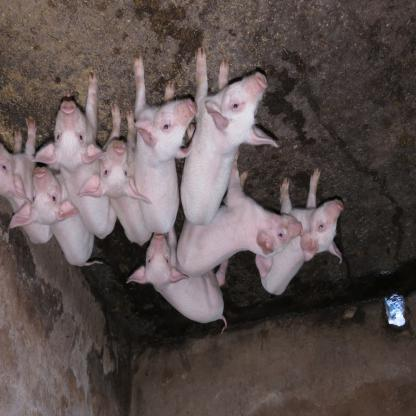boar: (0, 47, 344, 335)
